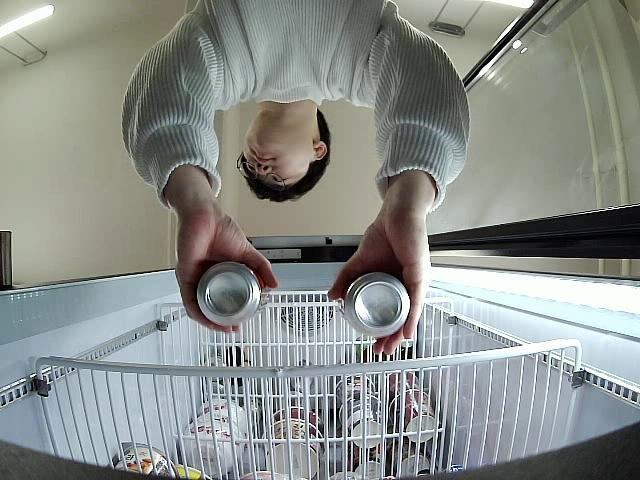00_hand: (328, 211, 431, 351), (174, 209, 278, 333)
11_cocaColaZero: (195, 258, 271, 327), (341, 270, 409, 336)
